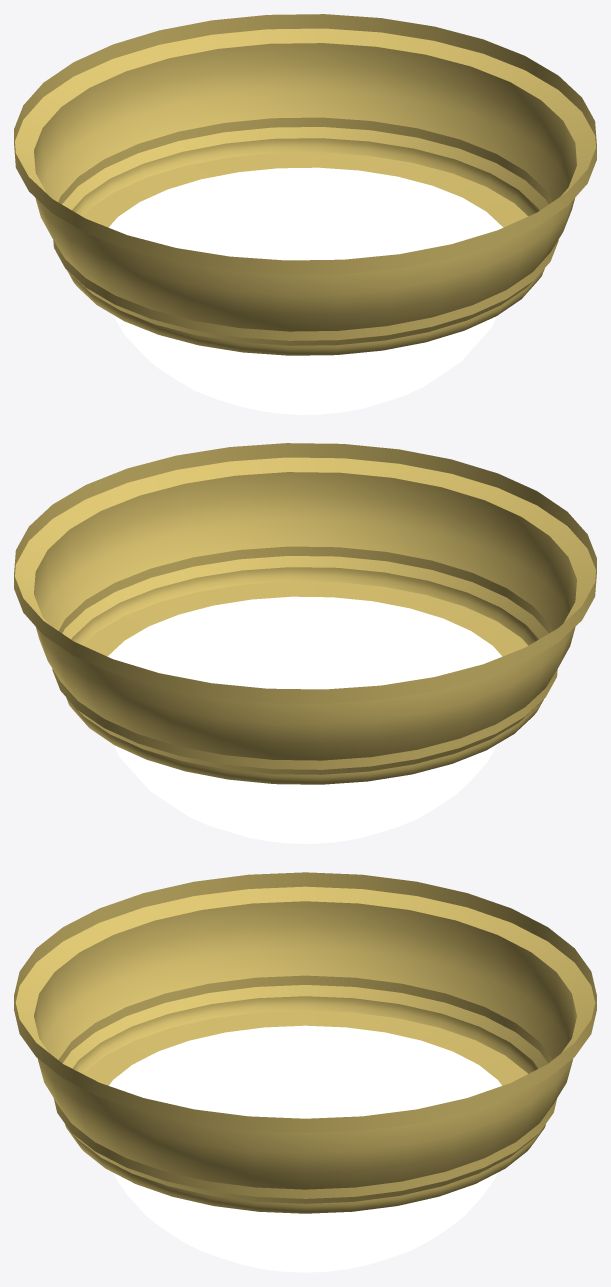
File: ceilinglamp.glb
The picture shows the model from 3 angles, top to bottom: view 1: azimuth 30°, elevation 25°; view 2: azimuth 150°, elevation 25°; view 3: azimuth 270°, elevation 25°; orthographic projection.
Visible parts, largest first — view 1: light_low; view 2: light_low; view 3: light_low.
Part boxes in pixels (x1,y1,x2,y2): light_low: (14,14,596,414); light_low: (14,443,596,843); light_low: (14,872,596,1272).
Bounding box in the file's own units: 2 × 0.9921 × 2.
Materials: 1 (1 with a texture image).
